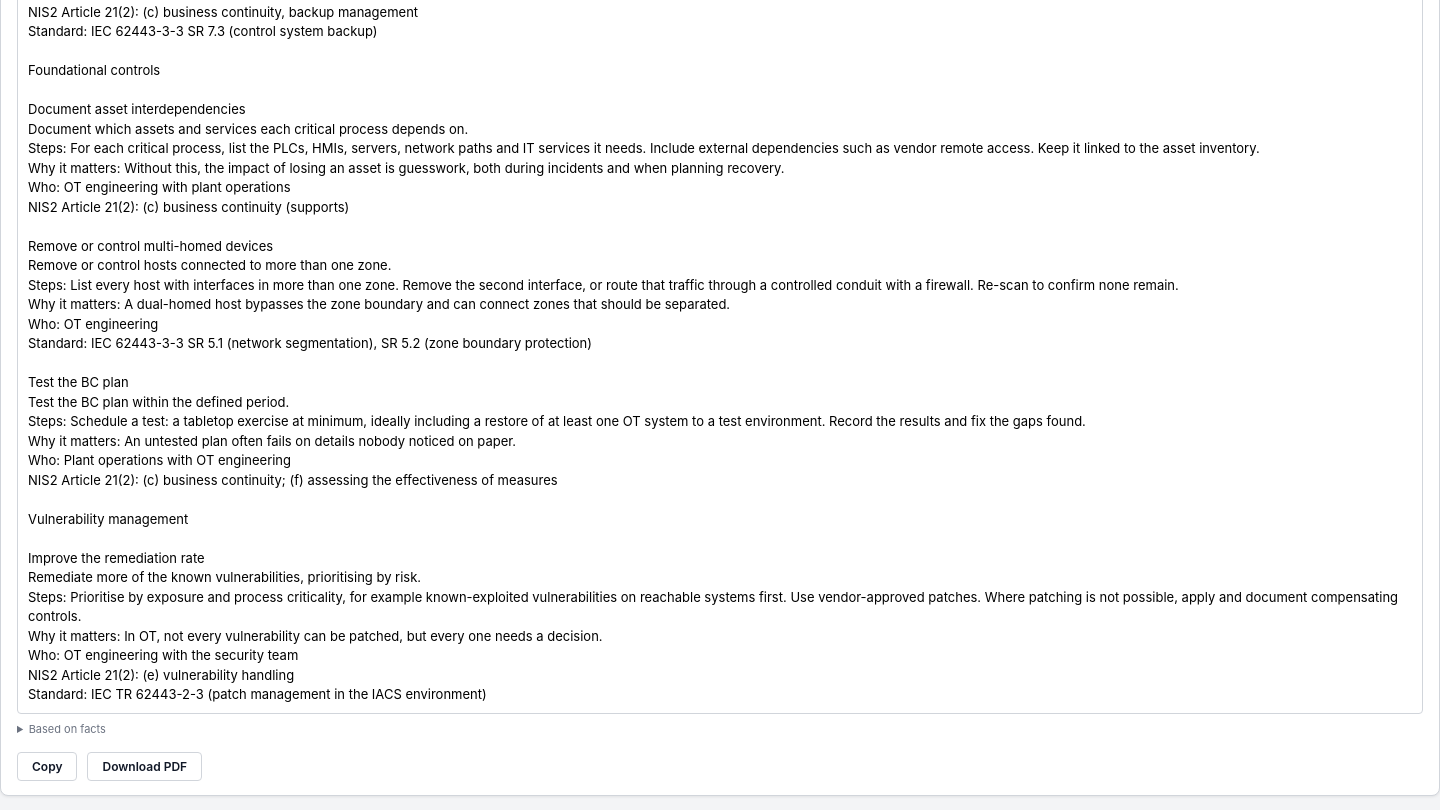
Scenario: Copy › a failing clipboard says so
(page scrolled)
Click the button "Copy".
click(47, 766)  # box x1=17 y1=752 x2=78 y2=781
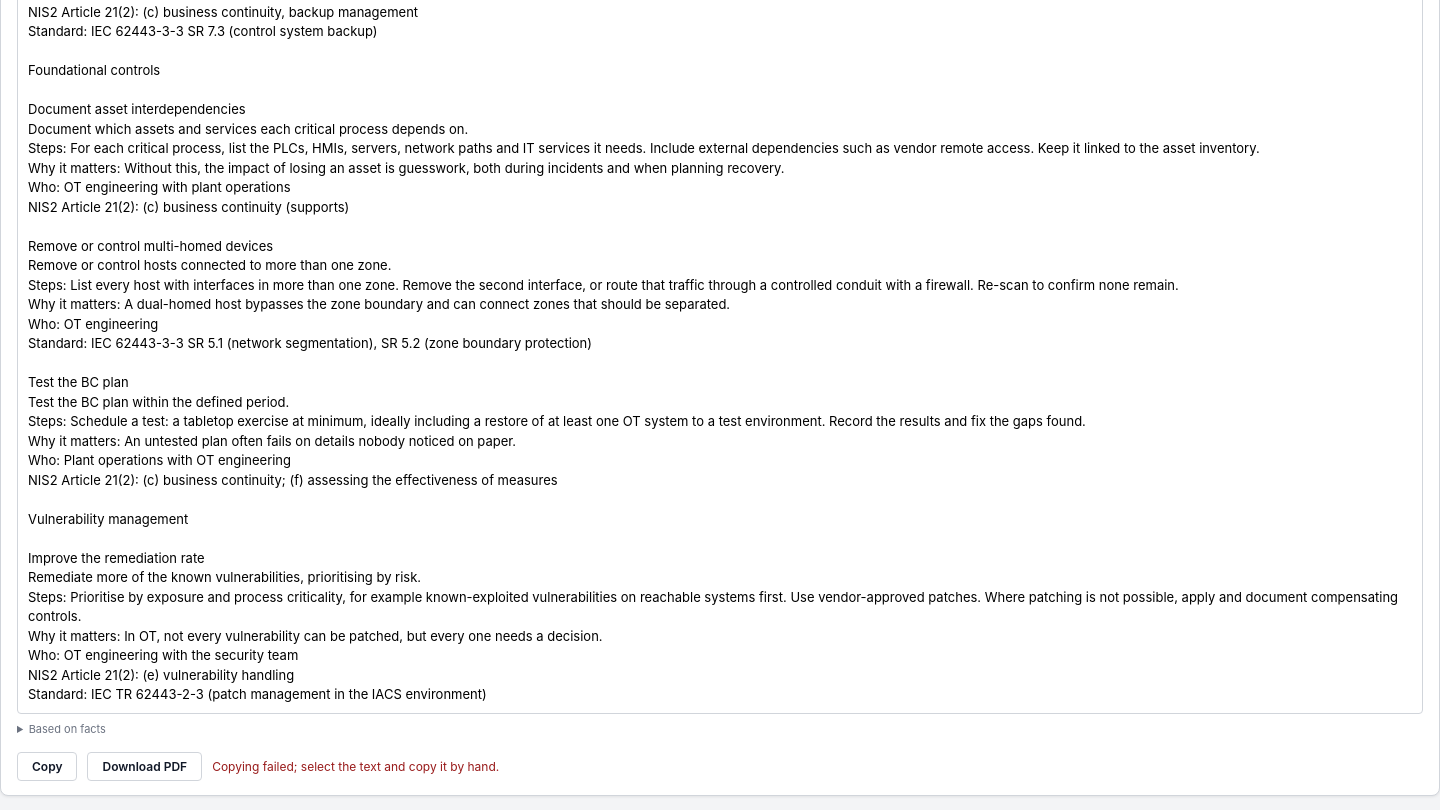
expect the text "Copying failed; select the text and copy it by hand." is shown: met, box x1=212 y1=759 x2=499 y2=774
